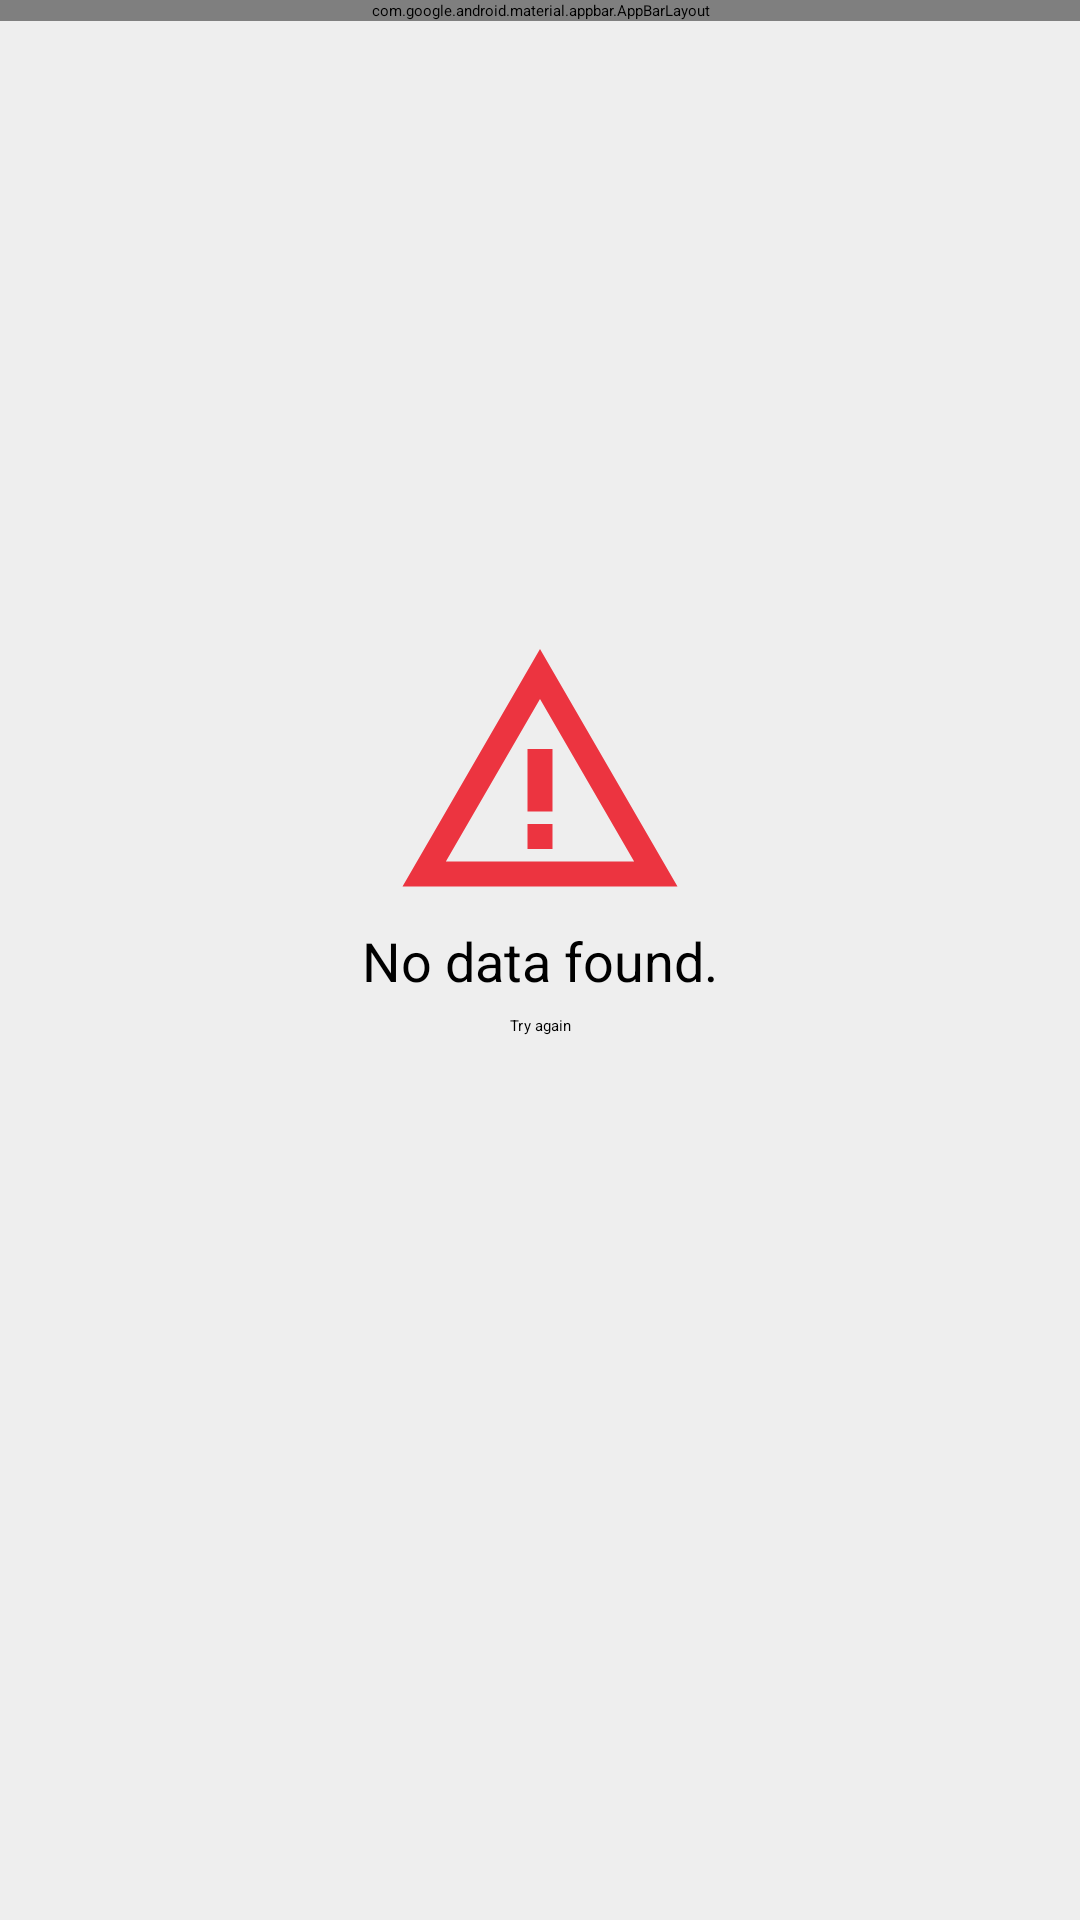

Point at icon controls on the screen. Image size 1080px x 1920px, points as point (x, y).
warning: point (540, 768)
